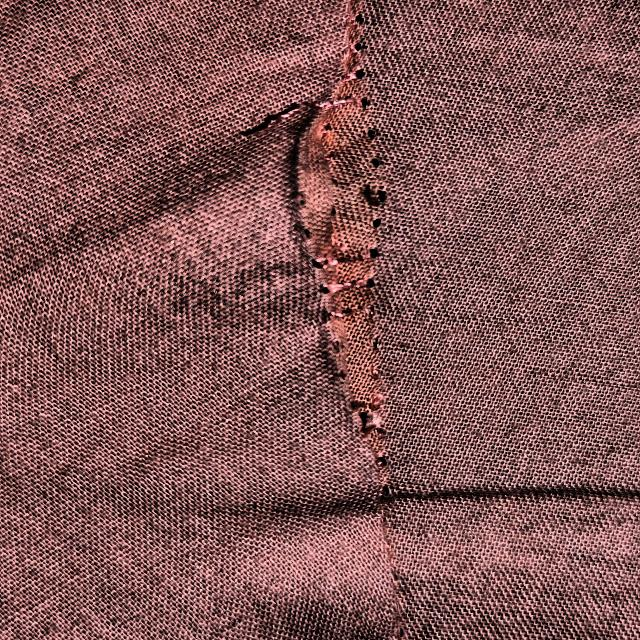seam: (246, 41, 433, 482)
